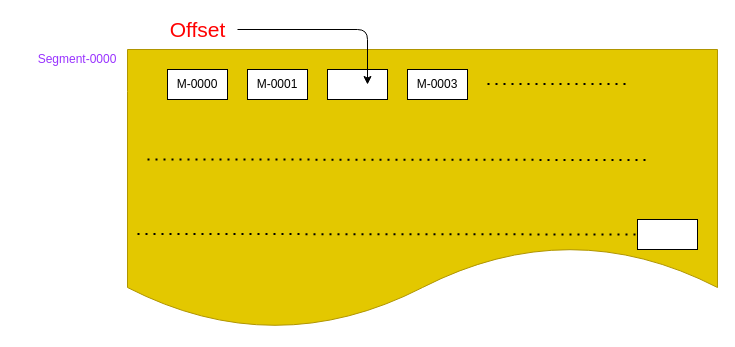
The diagram is 735 pixels wide and 347 high, and some of its shapes have lost their labels. The shapes that lost their labels are listed below. From the top down, each one's centre as x and y in pixels, then its label:
At point 357,84: "M-0002".
At point 667,234: "M-3592".
